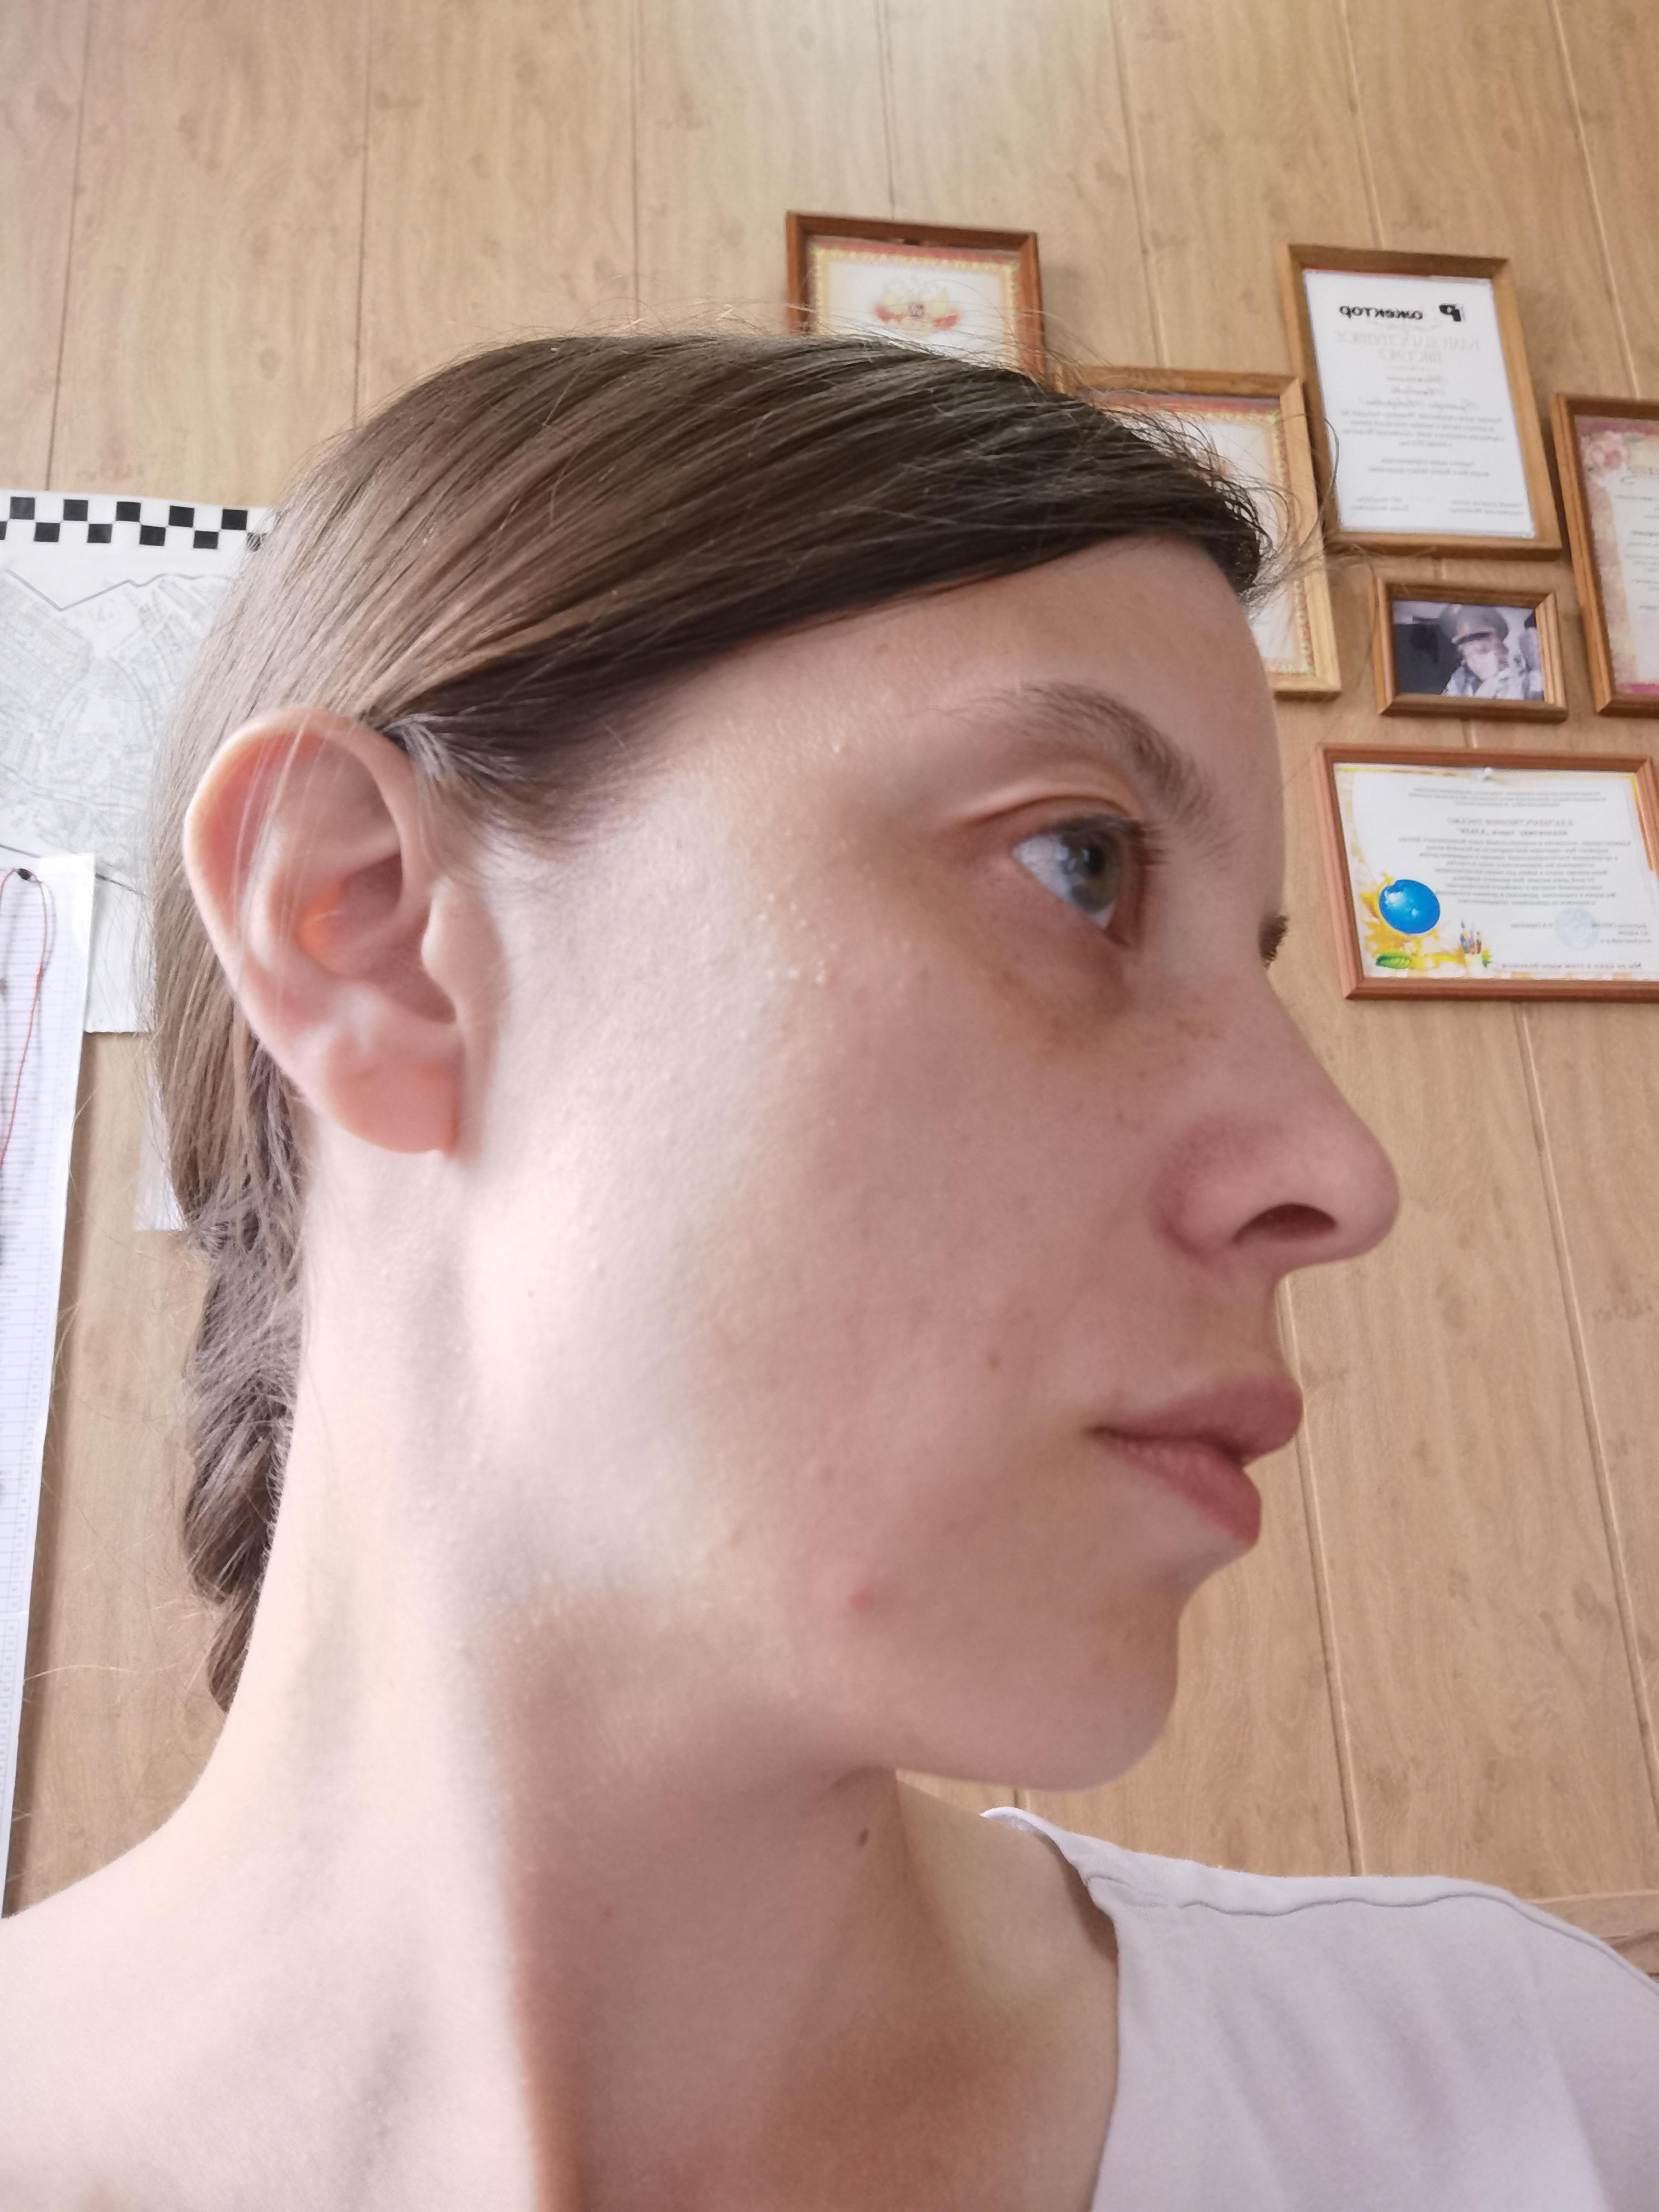Acne: (742, 874, 843, 1024), (1110, 1000, 1216, 1115), (976, 967, 1091, 1045), (821, 1566, 887, 1630)
Wrinkles: (993, 1228, 1136, 1420)
